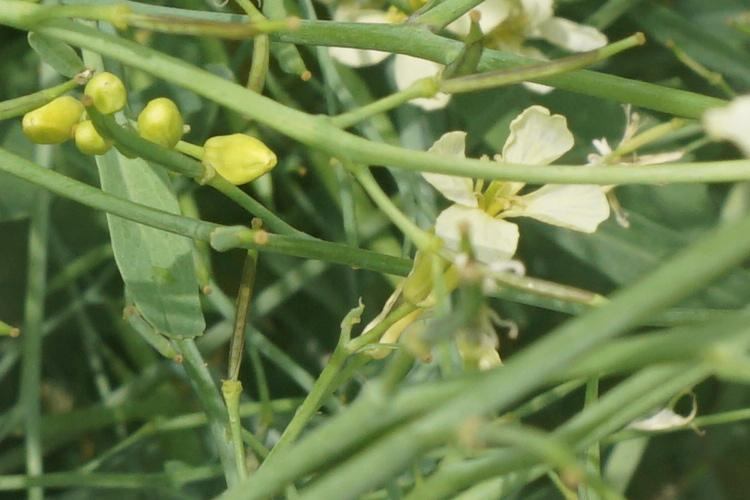bud: (206, 121, 285, 195), (26, 96, 81, 151), (142, 94, 189, 154), (82, 67, 133, 121), (76, 118, 113, 158)
pod: (445, 26, 677, 102), (239, 224, 277, 405), (253, 17, 331, 93), (435, 6, 491, 78)
white: (434, 116, 603, 261)
